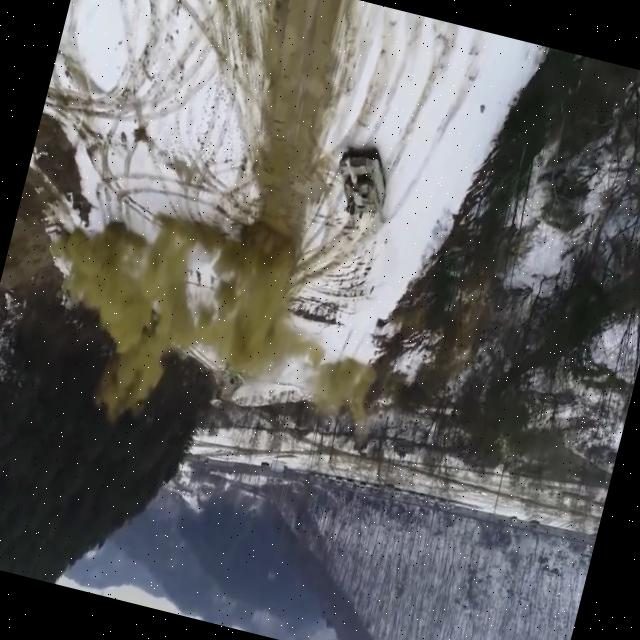korea tank: (328, 136, 399, 227)
